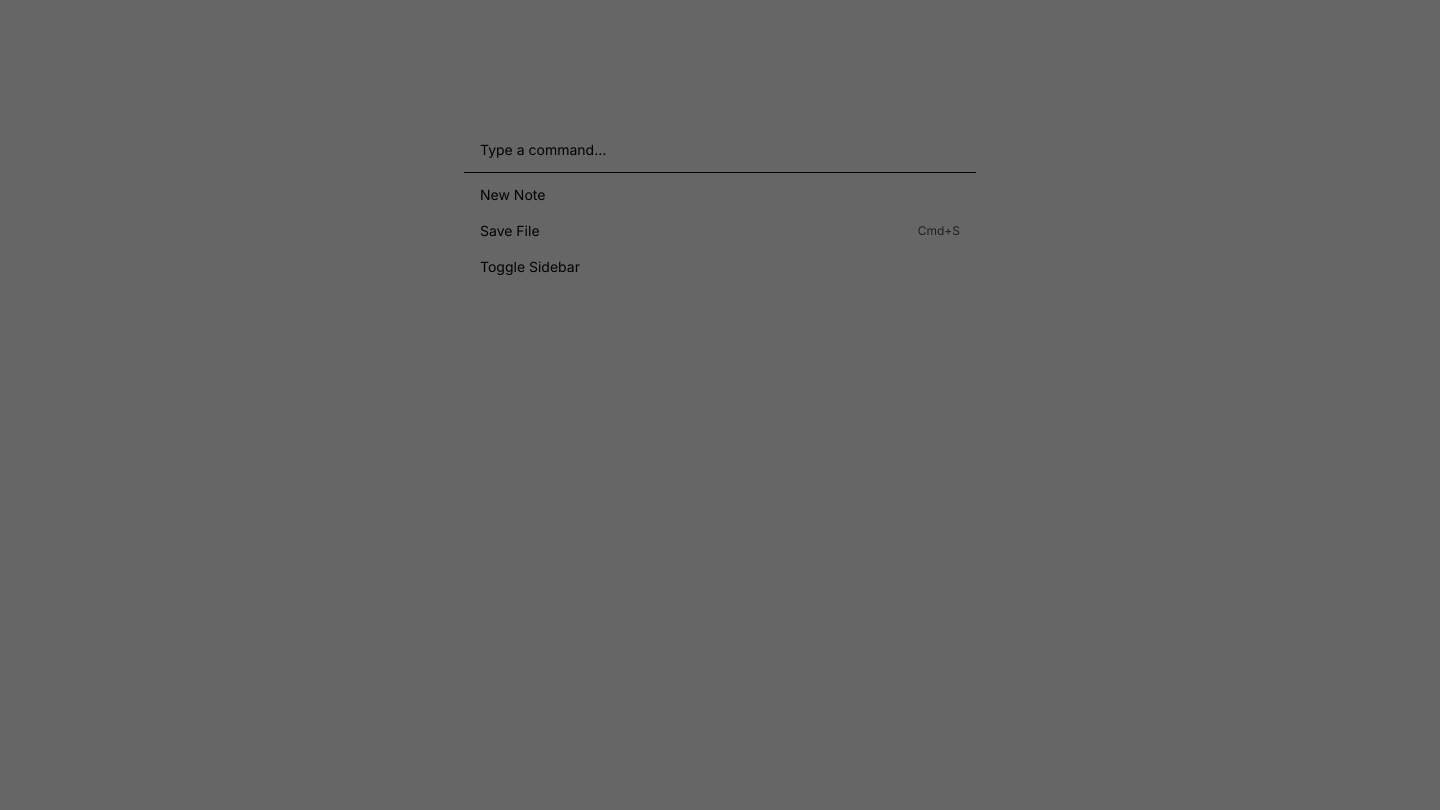
CommandPalette › filters by keyword when label does not match
In the field: coordinates (720, 150) [464,128,976,173], type "document"
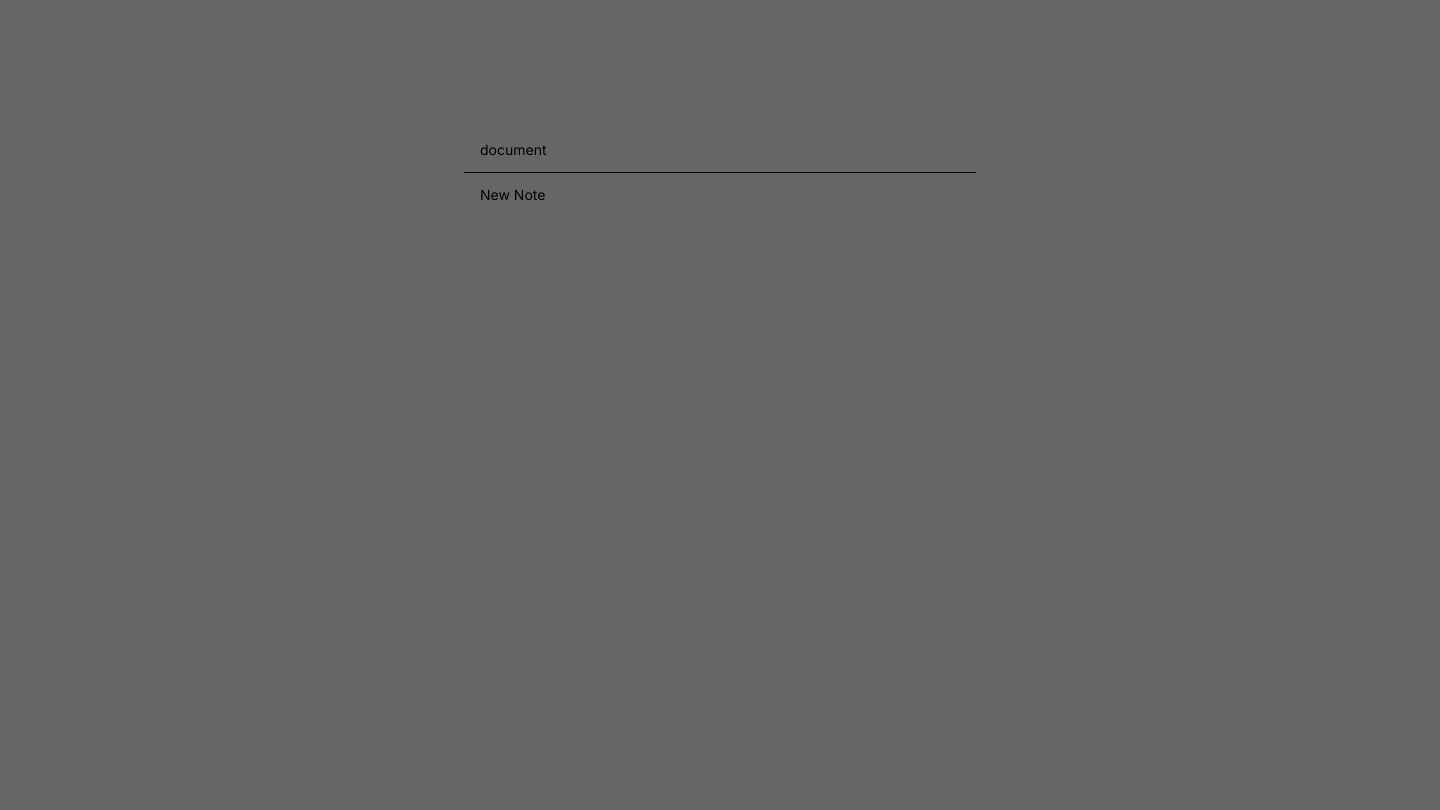
Expected: the text "New Note" is shown, [480,185,545,205]
Result: the text "Save File" is gone
